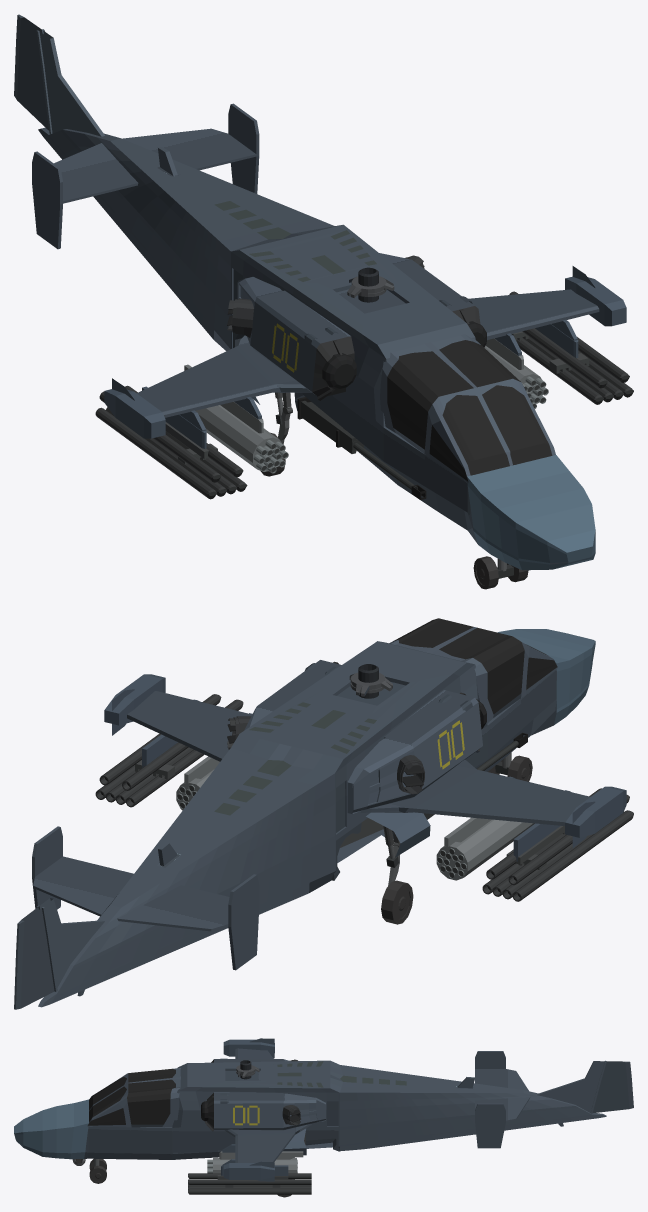
File: body.glb
3 renders of one model, top to bottom at view 1: azimuth 30°, elevation 25°; view 2: azimuth 150°, elevation 25°; view 3: azimuth 270°, elevation 25°, orthographic. The views are drawn at different scales.
Visible parts, largest first — view 1: Object_6, Object_21, Object_29, Object_26, Object_28, Object_20, Object_36, Object_22, Object_46; view 2: Object_6, Object_29, Object_21, Object_26, Object_28, Object_36, Object_22, Object_46; view 3: Object_6, Object_21, Object_29, Object_26, Object_28, Object_22, Object_36, Object_46, Object_27.
Part boxes in pixels (bbox=[...]): Object_6: bbox=[14, 14, 599, 570]; Object_21: bbox=[387, 340, 552, 481]; Object_29: bbox=[95, 291, 633, 499]; Object_26: bbox=[104, 266, 626, 448]; Object_28: bbox=[184, 338, 548, 473]; Object_20: bbox=[297, 397, 426, 499]; Object_36: bbox=[260, 392, 528, 589]; Object_22: bbox=[214, 201, 376, 281]; Object_46: bbox=[347, 267, 394, 302]; Object_6: bbox=[14, 627, 595, 1009]; Object_29: bbox=[95, 694, 633, 901]; Object_21: bbox=[393, 618, 557, 714]; Object_26: bbox=[104, 674, 626, 861]; Object_28: bbox=[176, 756, 534, 880]; Object_36: bbox=[381, 752, 532, 924]; Object_22: bbox=[214, 702, 376, 815]; Object_46: bbox=[349, 664, 392, 698]; Object_6: bbox=[14, 1048, 633, 1162]; Object_21: bbox=[88, 1069, 175, 1125]; Object_29: bbox=[188, 1173, 311, 1194]; Object_26: bbox=[221, 1038, 288, 1181]; Object_28: bbox=[207, 1151, 303, 1173]; Object_22: bbox=[277, 1061, 406, 1087]; Object_36: bbox=[89, 1157, 294, 1197]; Object_46: bbox=[236, 1060, 259, 1079]; Object_27: bbox=[233, 1105, 259, 1125].
Size of the model in its own units: 6.72 by 2.88 by 13.72.
18 materials, 18 textured.
